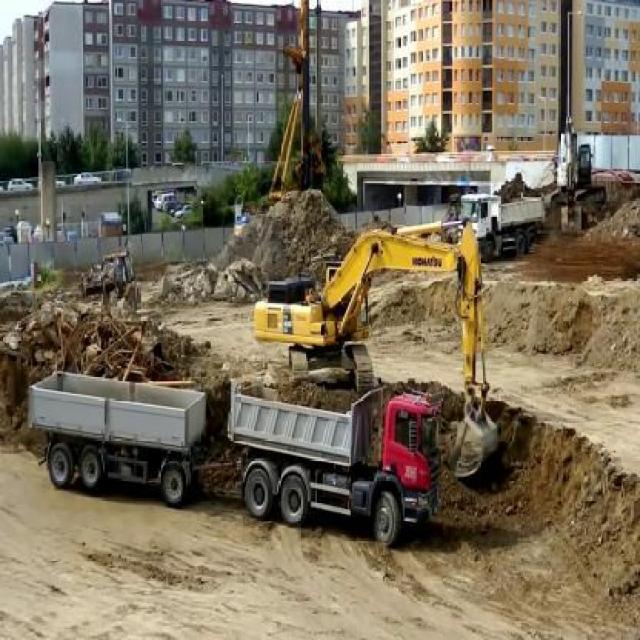Dump Truck: (23, 362, 442, 543), (452, 182, 546, 266)
Excavator: (253, 213, 501, 482), (552, 110, 597, 238)
